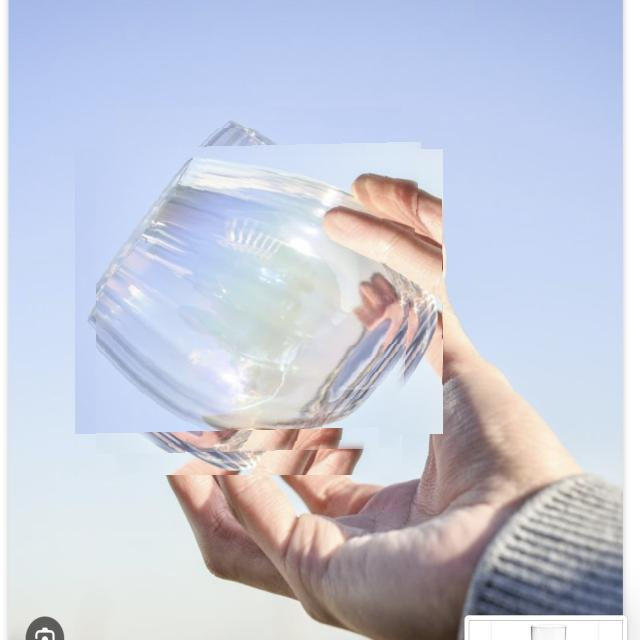recyclable: (96, 128, 423, 455)
